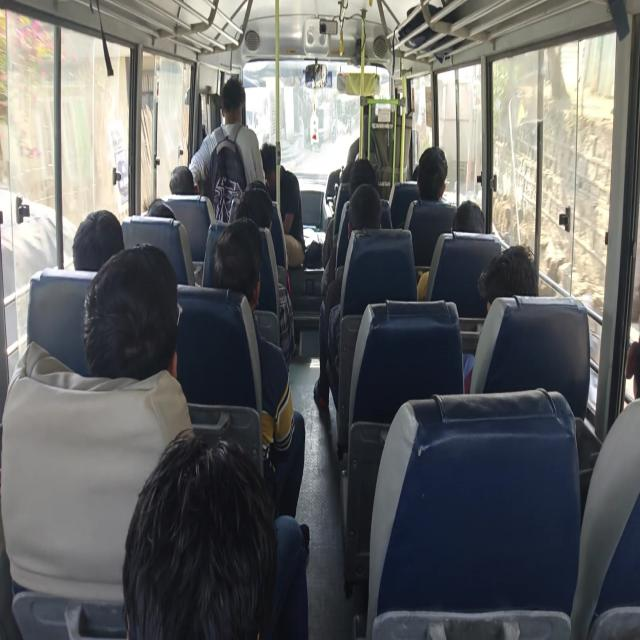person: (87, 340, 340, 640), (103, 249, 184, 411), (606, 301, 640, 453), (271, 140, 307, 243), (220, 223, 260, 309), (492, 252, 548, 308), (210, 86, 267, 138), (457, 202, 508, 252), (417, 148, 462, 202), (80, 200, 116, 265), (346, 183, 392, 233), (167, 152, 202, 198), (154, 186, 180, 238), (238, 173, 273, 209), (345, 161, 379, 195), (238, 202, 271, 232), (412, 164, 431, 192)
